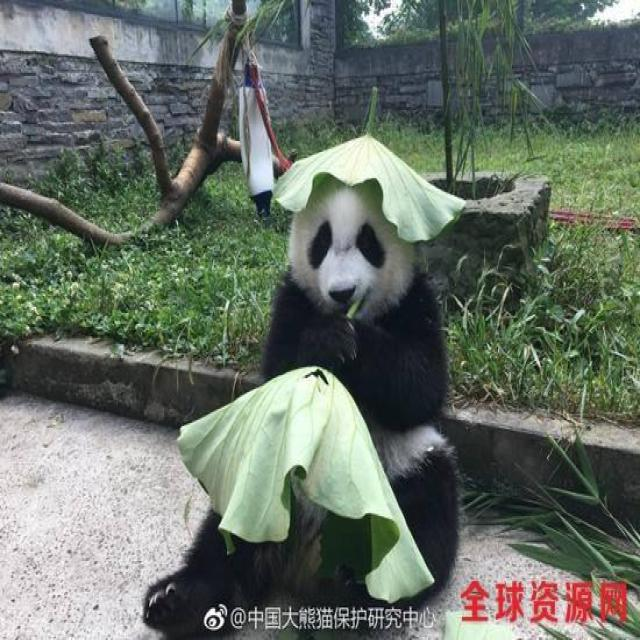panda: (117, 101, 491, 619)
